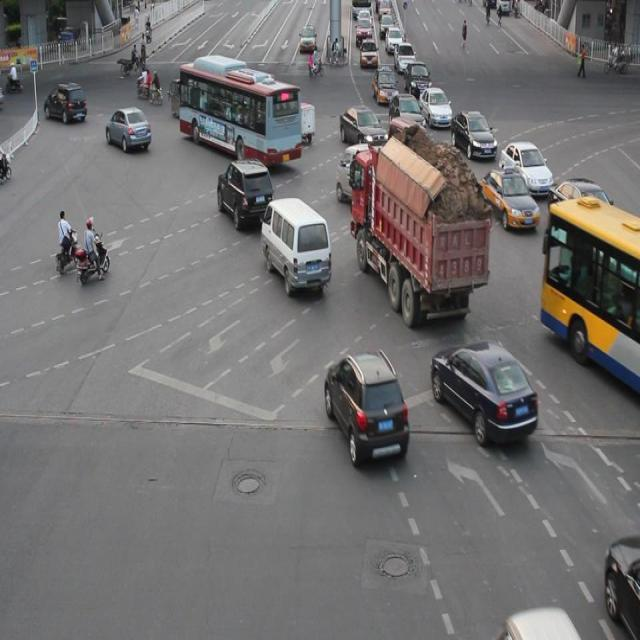bus: (350, 149, 487, 323)
car: (430, 339, 538, 441), (323, 349, 408, 464), (549, 179, 620, 249), (217, 156, 275, 230), (600, 535, 640, 640), (479, 166, 537, 230), (498, 140, 553, 195), (449, 108, 495, 158), (338, 104, 386, 151), (105, 105, 151, 151), (388, 116, 430, 166), (387, 92, 425, 134)
truck: (259, 197, 331, 291), (334, 143, 387, 203)
van: (537, 197, 640, 392), (177, 63, 300, 162)
